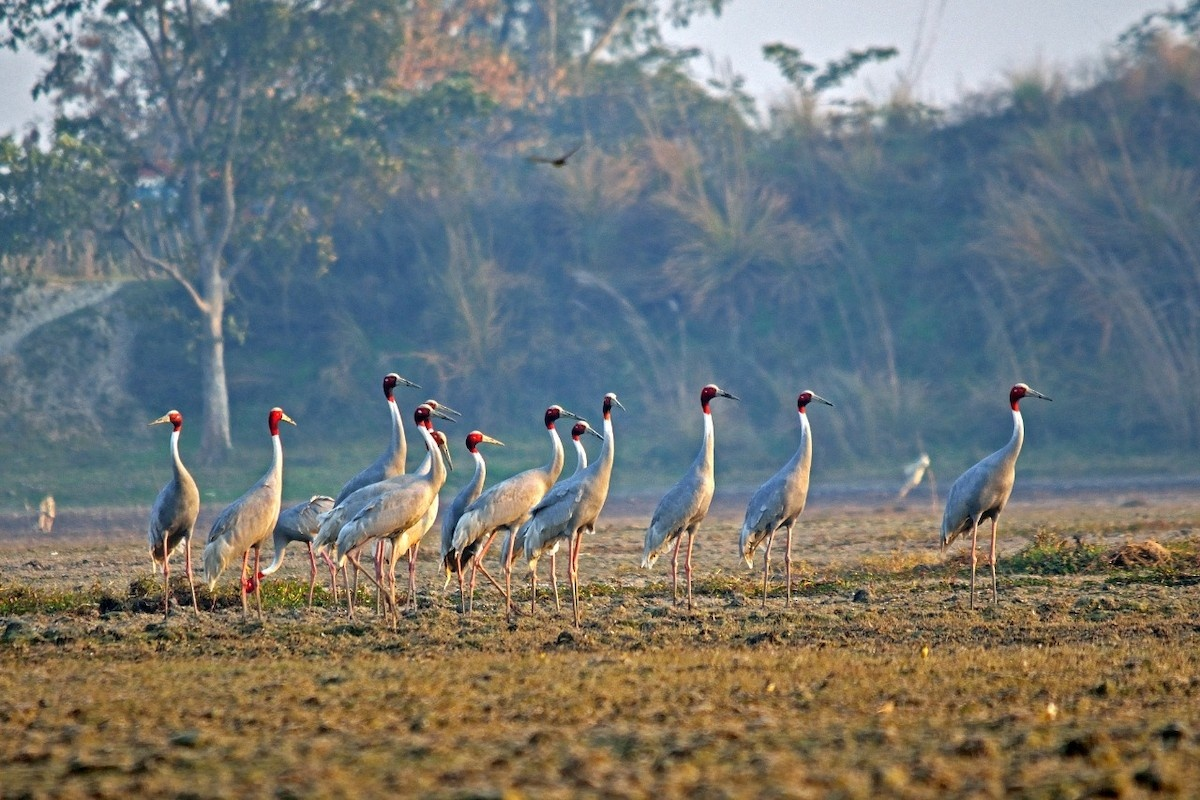crane: (448, 401, 587, 618), (938, 375, 1060, 604), (338, 404, 455, 628), (202, 398, 308, 622), (645, 381, 746, 609), (742, 381, 840, 615), (145, 398, 208, 596), (367, 358, 430, 482), (598, 395, 633, 465)
